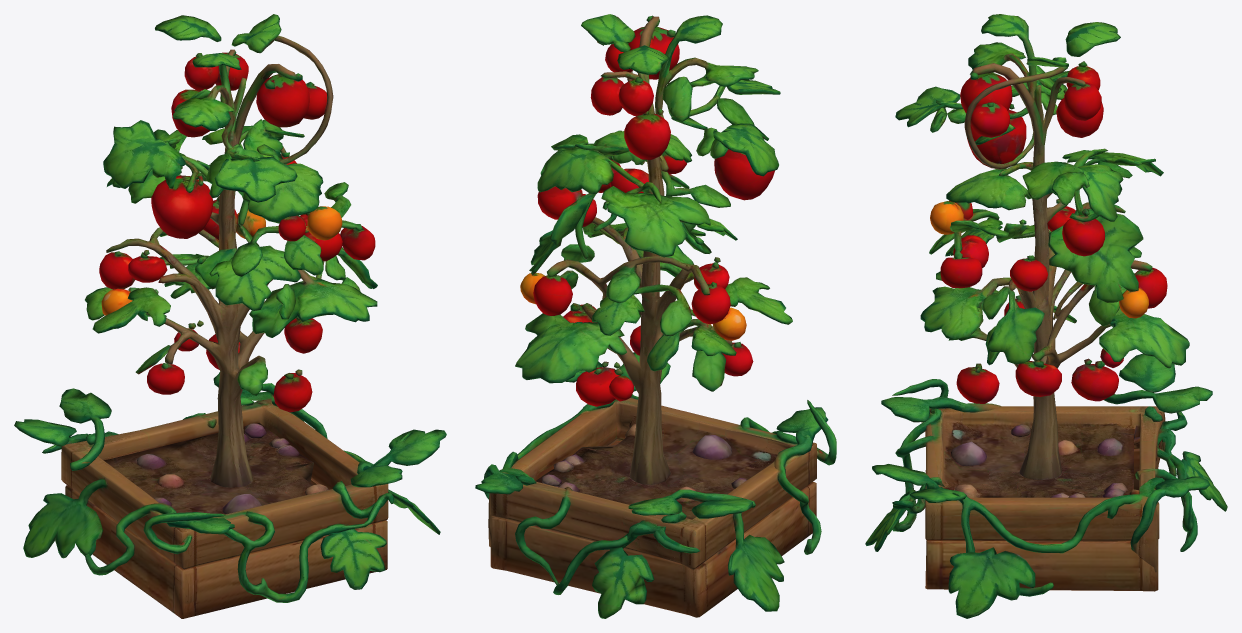
File: tomato_tree.glb
3 renders of one model, left to right at view 1: azimuth 30°, elevation 25°; view 2: azimuth 150°, elevation 25°; view 3: azimuth 270°, elevation 25°, orthographic. The views are drawn at different scales.
Size of the model in its own units: 1.28 by 1.89 by 1.23.
1 material, 1 textured.
